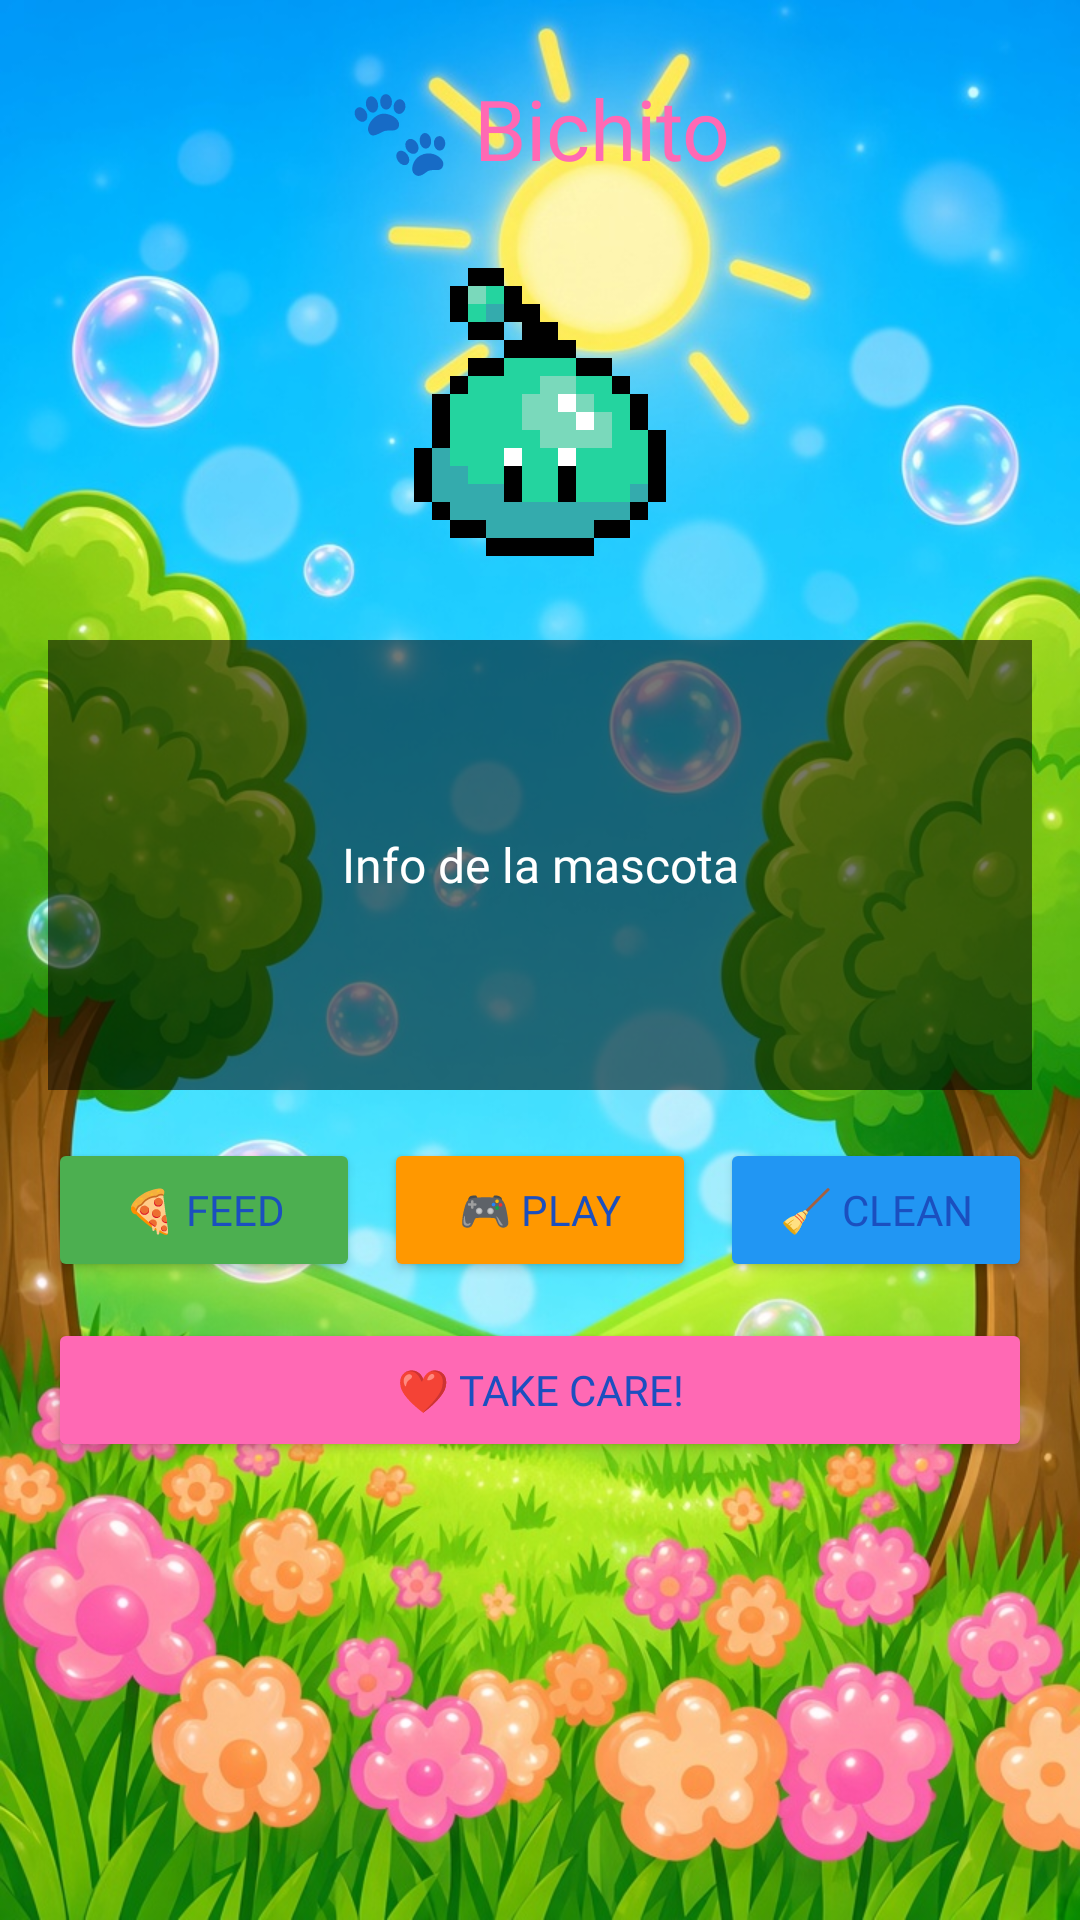

Point at icon controls on the screen. Image size 1080*1920, points as point (x, y).
pet: point (540, 412)
